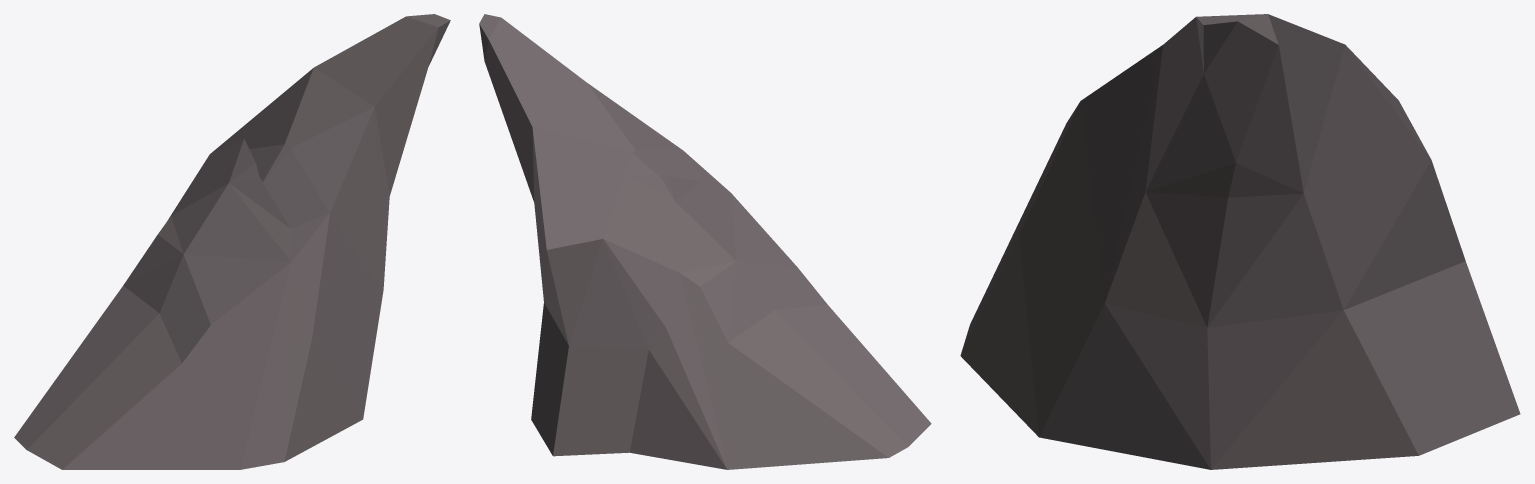
Rendered from Rock_Sharp_l_02.fbx.
The picture shows the model from 3 angles, left to right: view 1: azimuth 30°, elevation 25°; view 2: azimuth 150°, elevation 25°; view 3: azimuth 270°, elevation 25°; orthographic projection. The views are drawn at different scales.
Visible parts, largest first — view 1: Rock_Sharp_l_02; view 2: Rock_Sharp_l_02; view 3: Rock_Sharp_l_02.
Boxes of the visible parts, x1,y1,x2,y2 form: Rock_Sharp_l_02: [14, 14, 450, 469]; Rock_Sharp_l_02: [479, 14, 931, 469]; Rock_Sharp_l_02: [960, 14, 1520, 469].
Bounding box in the file's own units: 762 × 566 × 550.
